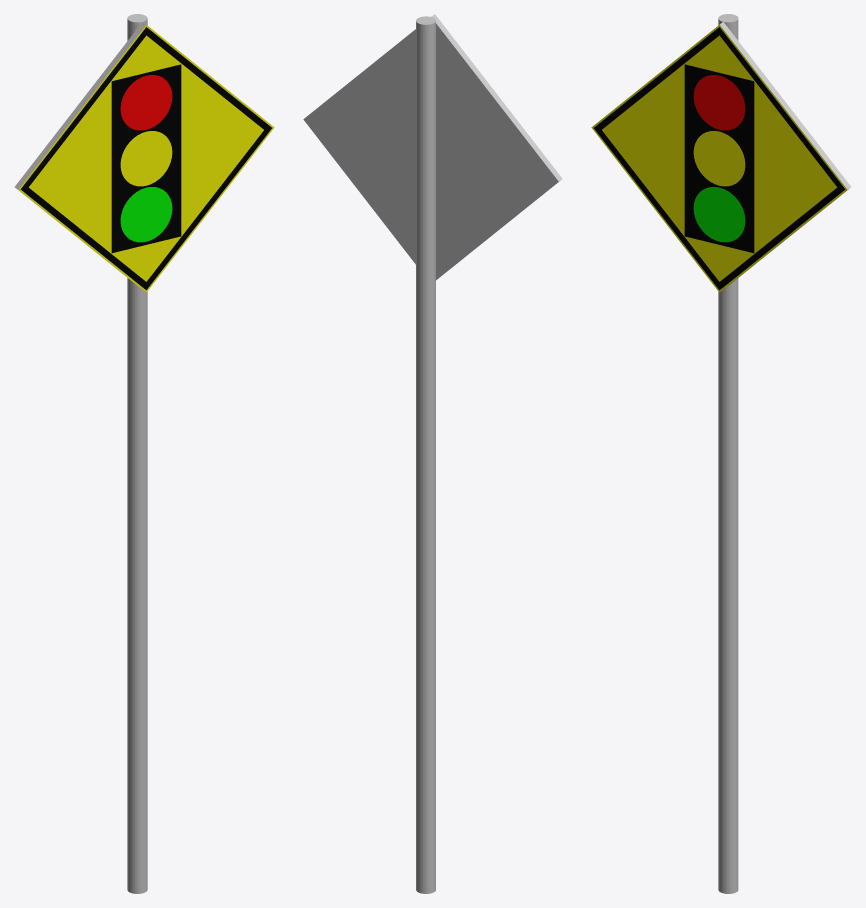
The model's file is lighttrafic.obj.
3 renders of one model, left to right at view 1: azimuth 30°, elevation 25°; view 2: azimuth 150°, elevation 25°; view 3: azimuth 330°, elevation 25°, orthographic.
Parts seen in each view (by area): view 1: Circle_Circle.001, Cylinder; view 2: Circle_Circle.001, Cylinder; view 3: Circle_Circle.001, Cylinder.
Part boxes in pixels (x1,y1,x2,y2): Circle_Circle.001: [14, 22, 274, 292]; Cylinder: [127, 14, 147, 893]; Circle_Circle.001: [303, 14, 562, 280]; Cylinder: [416, 16, 435, 893]; Circle_Circle.001: [591, 22, 851, 292]; Cylinder: [718, 14, 738, 893].
Bounding box in the file's own units: 1 × 3.25 × 0.0945.
